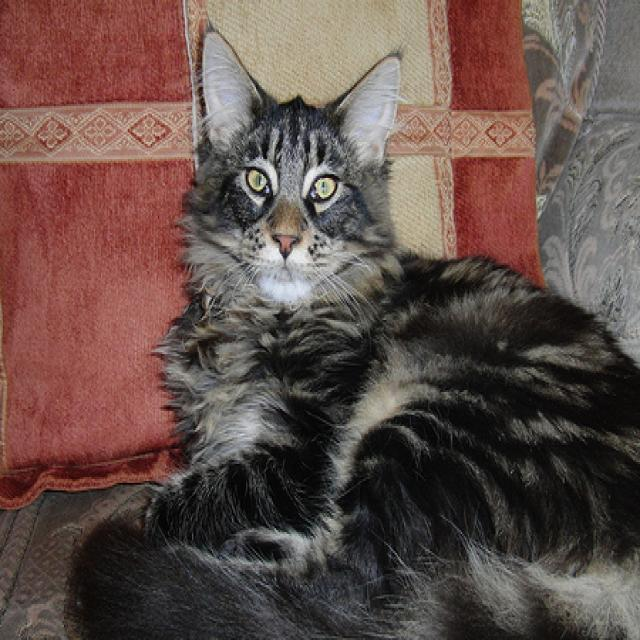Maine Coon: (67, 22, 640, 640)
